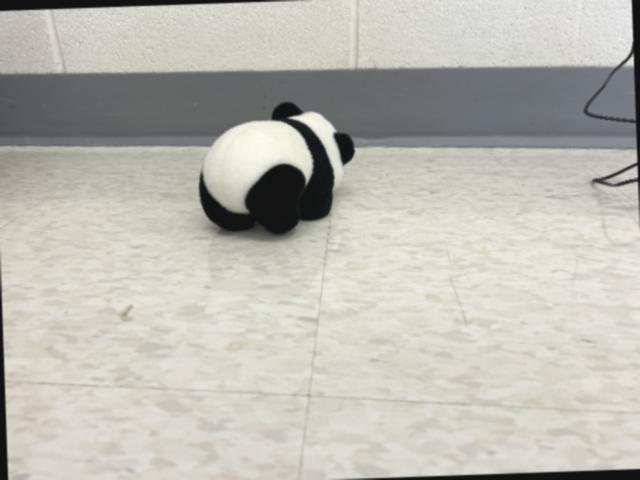panda_plushie: (198, 100, 359, 237)
